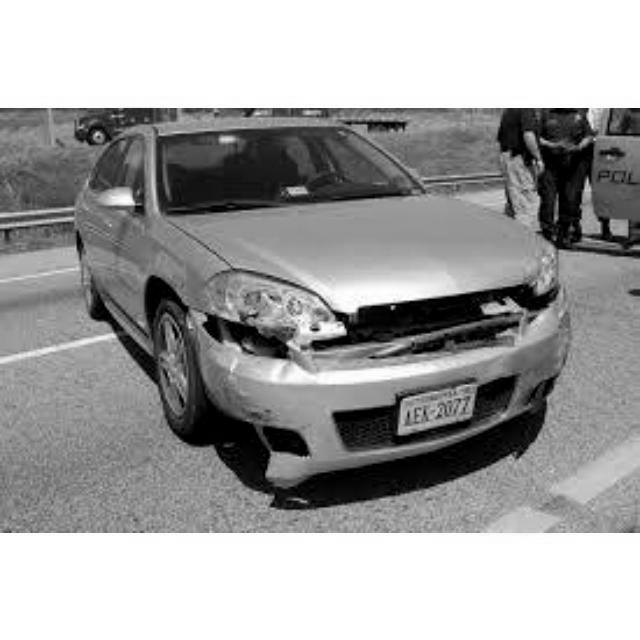Headlight-damage: (198, 266, 332, 363)
front-bumper-dent: (210, 392, 414, 487)
